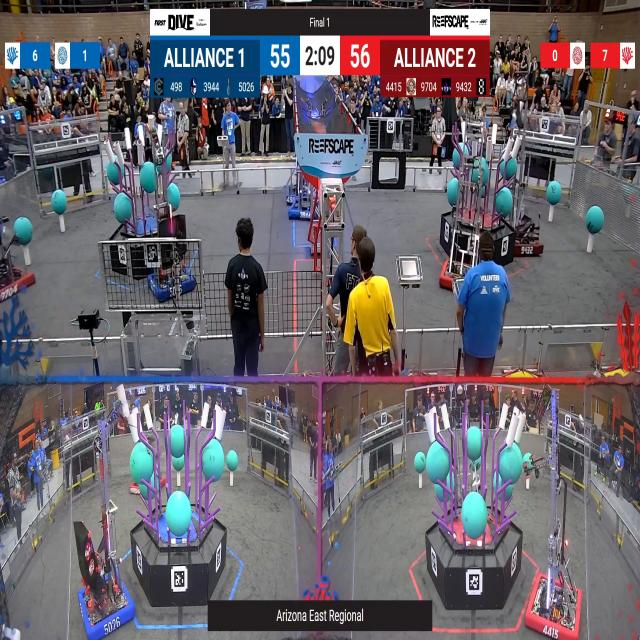scoreboard: (150, 34, 490, 98)
